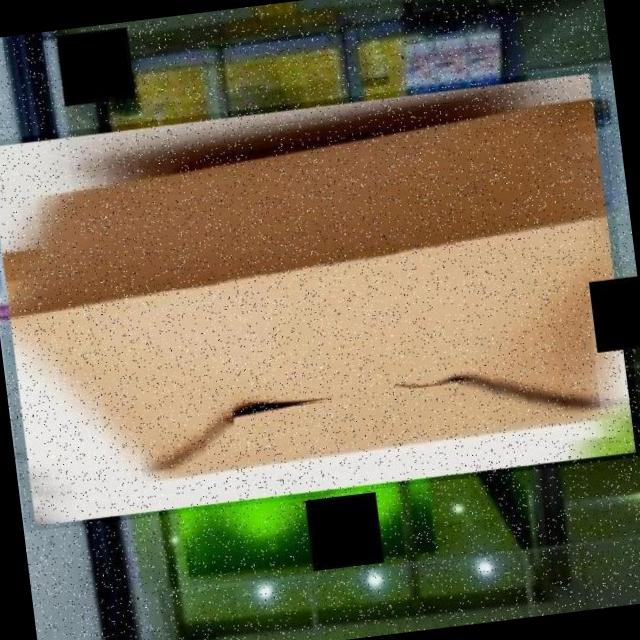box: (0, 66, 640, 532)
